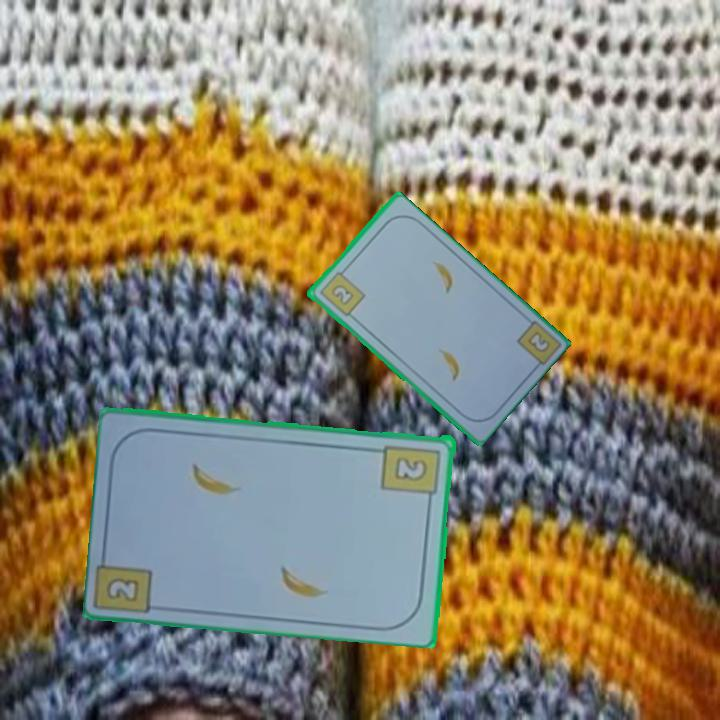2b: (379, 440, 443, 506), (315, 264, 368, 319), (102, 574, 143, 605), (524, 328, 553, 356)
